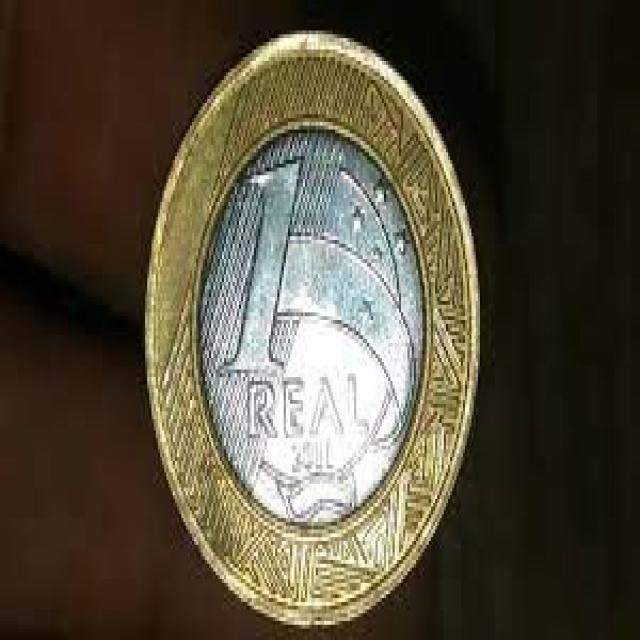1 real: (151, 31, 473, 618)
